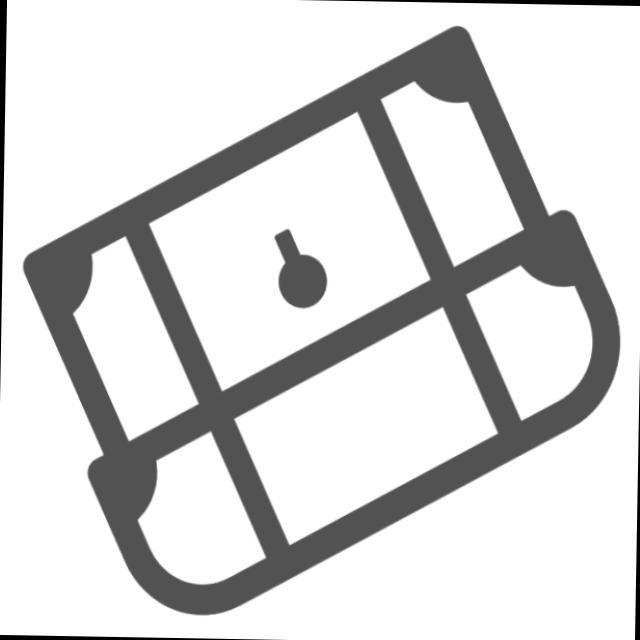treasure_box: (7, 8, 634, 633)
